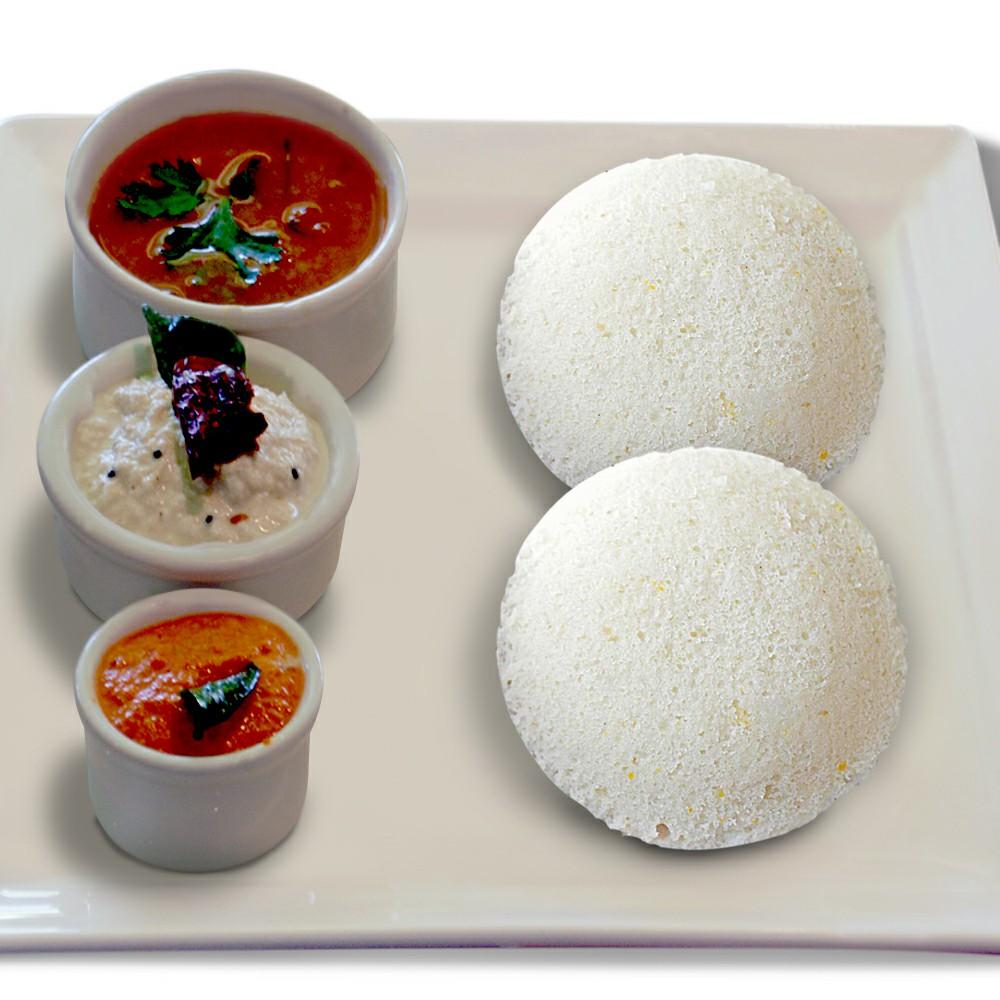CoconutChutney: (75, 367, 339, 547)
Idli: (489, 446, 912, 856), (492, 142, 887, 506)
